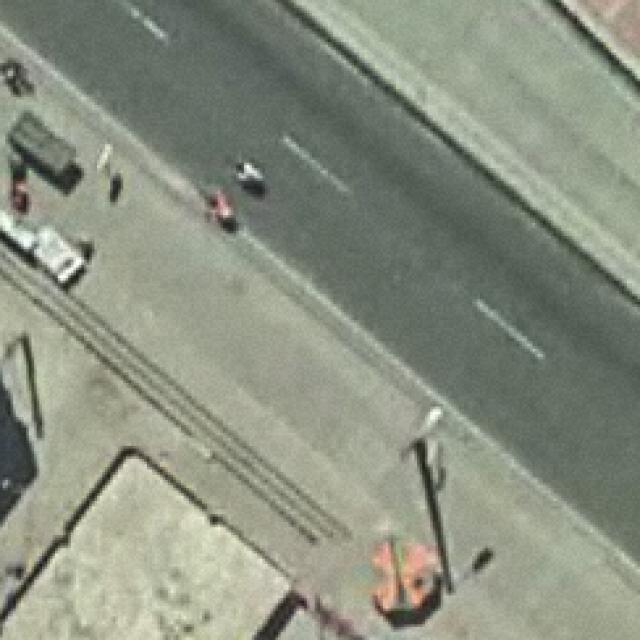vendedor_ambulante: (364, 538, 442, 620)
